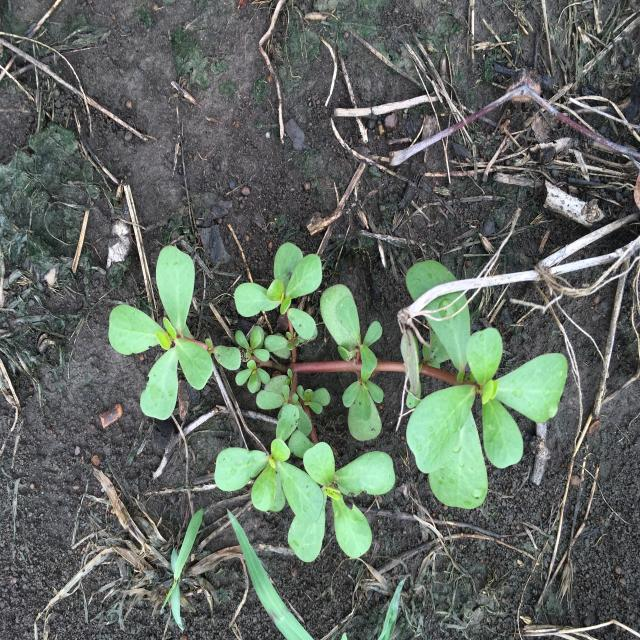Purslane: (108, 242, 568, 564)
